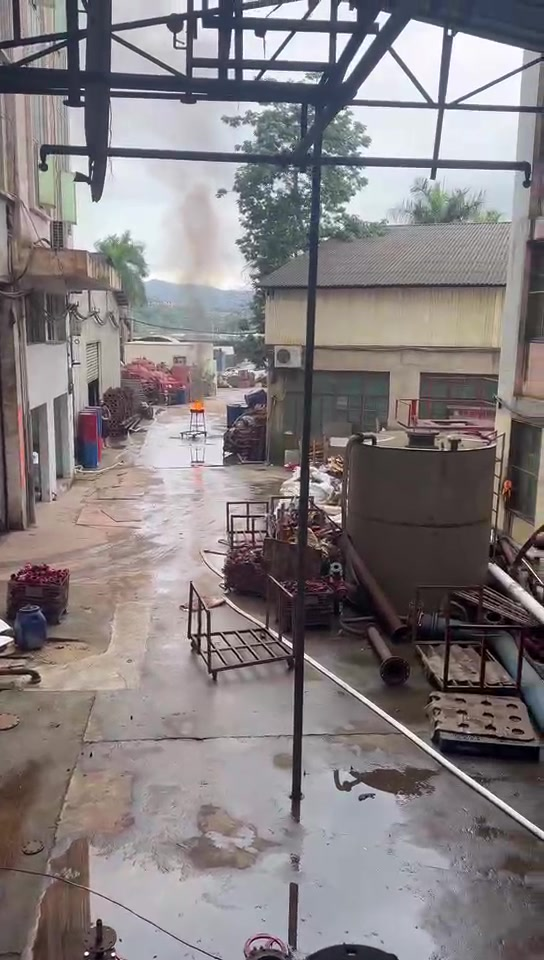fire: (191, 398, 203, 409)
